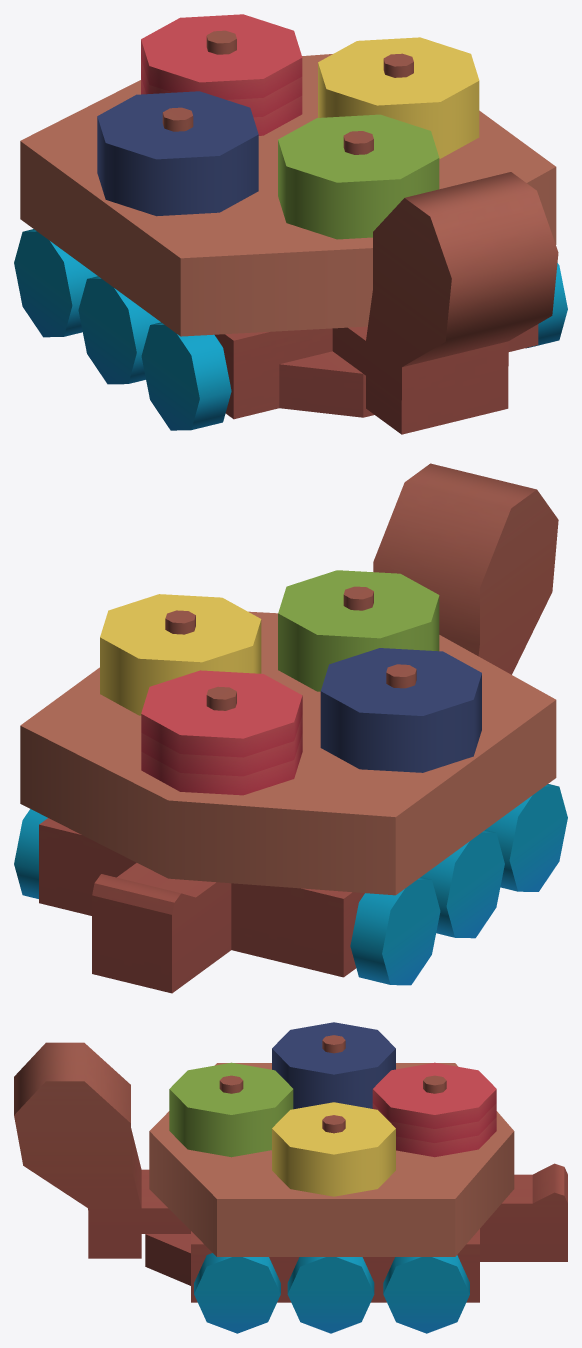
The model's file is SM_Pull_Turtle_Toy_02.fbx.
3 renders of one model, top to bottom at view 1: azimuth 30°, elevation 25°; view 2: azimuth 150°, elevation 25°; view 3: azimuth 270°, elevation 25°, orthographic. The views are drawn at different scales.
Parts seen in each view (by area): view 1: SM_Pull_Turtle_Toy_02; view 2: SM_Pull_Turtle_Toy_02; view 3: SM_Pull_Turtle_Toy_02.
Boxes of the visible parts, left/top/right/bottom form: SM_Pull_Turtle_Toy_02: left=14, top=14, right=567, bottom=434; SM_Pull_Turtle_Toy_02: left=14, top=463, right=567, bottom=993; SM_Pull_Turtle_Toy_02: left=14, top=1022, right=567, bottom=1333.
Bounding box in the file's own units: 28.81 × 20.26 × 49.59.
